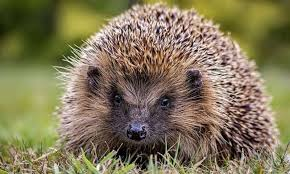hedgehog: (57, 7, 272, 161)
